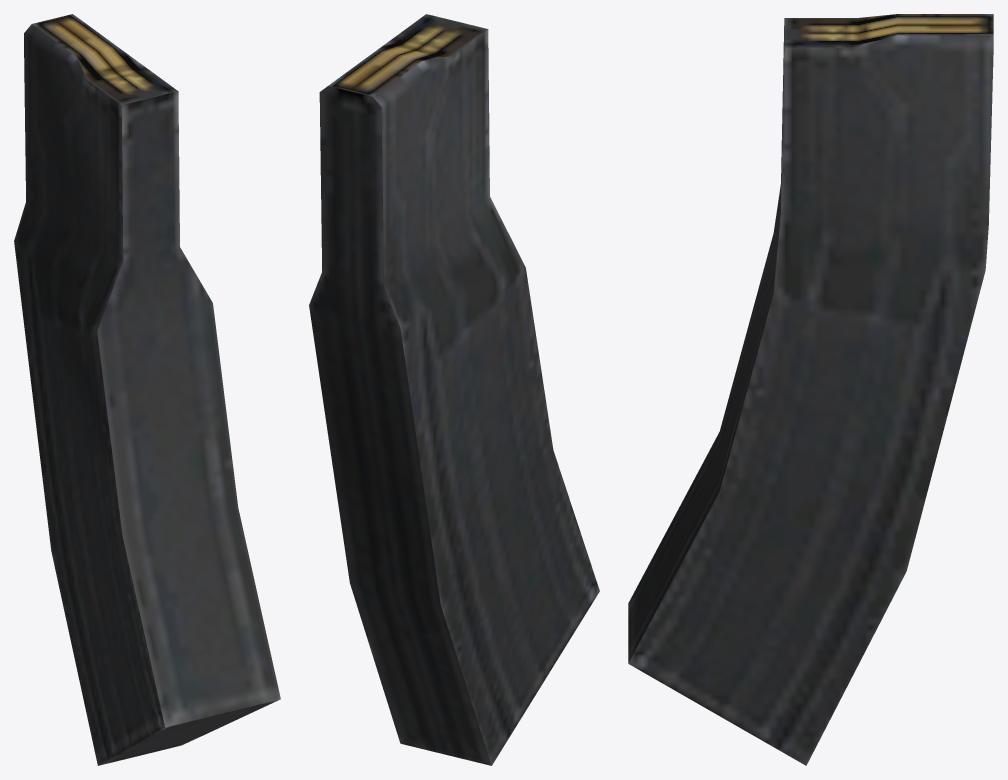
The model's file is Assault_Rifle_bq_dj_01_lod2_Magazine_LOD_(000327).glb.
The picture shows the model from 3 angles, left to right: view 1: azimuth 30°, elevation 25°; view 2: azimuth 150°, elevation 25°; view 3: azimuth 270°, elevation 25°; orthographic projection. The views are drawn at different scales.
Visible parts, largest first — view 1: bq_dj_01_lod2; view 2: bq_dj_01_lod2; view 3: bq_dj_01_lod2.
Boxes of the visible parts, x1,y1,x2,y2 form: bq_dj_01_lod2: (14,14,280,765); bq_dj_01_lod2: (309,14,599,765); bq_dj_01_lod2: (628,14,993,765).
Bounding box in the file's own units: 0.0573 × 0.3179 × 0.1463.
1 material, 1 textured.
